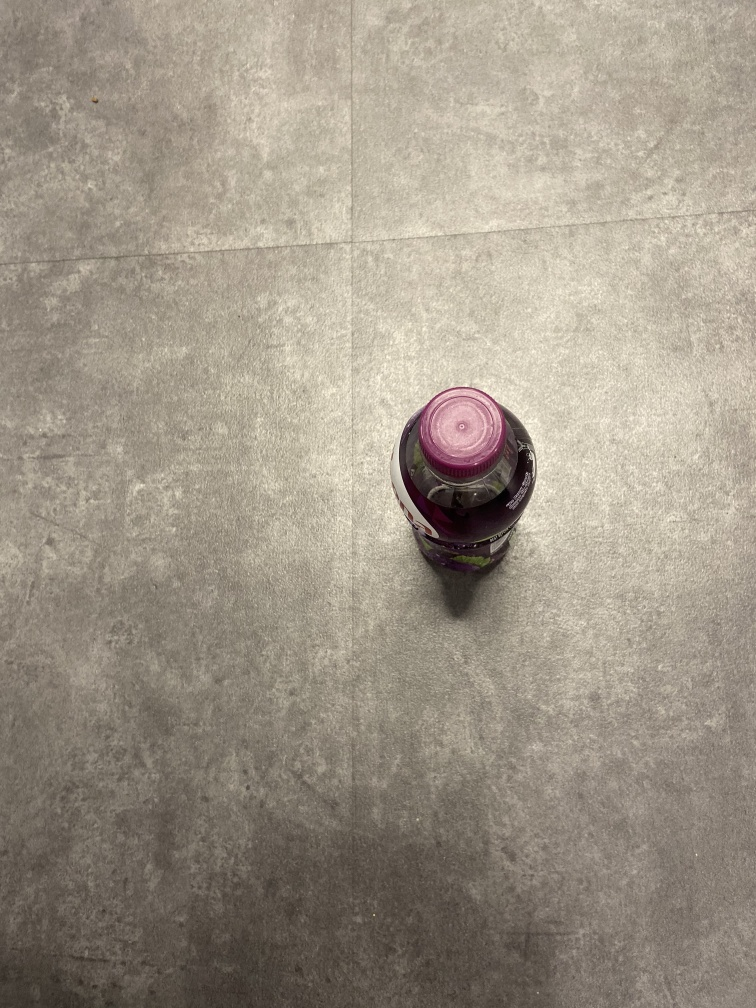bottle_purple: (389, 385, 542, 576)
